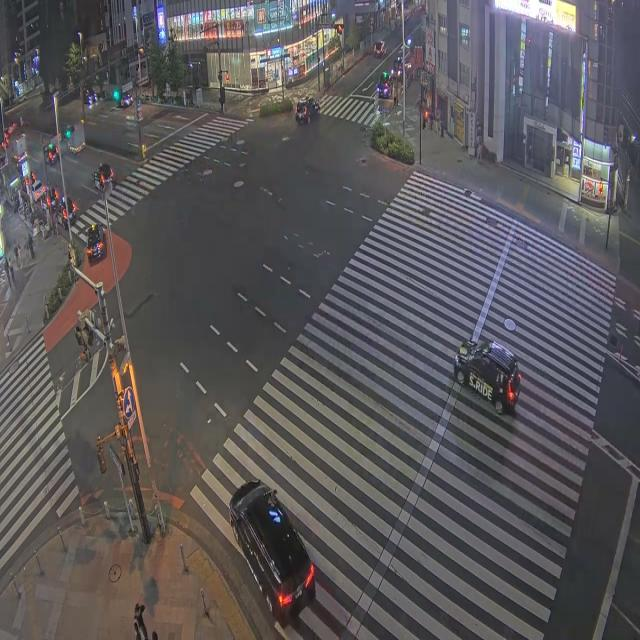car: (229, 480, 315, 626), (454, 341, 520, 414), (86, 224, 106, 262), (56, 197, 77, 227), (296, 98, 320, 122), (93, 163, 114, 190), (377, 72, 392, 99), (43, 143, 59, 165), (33, 181, 45, 202), (392, 56, 403, 78), (83, 88, 97, 105), (374, 40, 386, 57), (122, 94, 133, 107)
truck: (68, 123, 85, 153), (12, 134, 26, 162)
